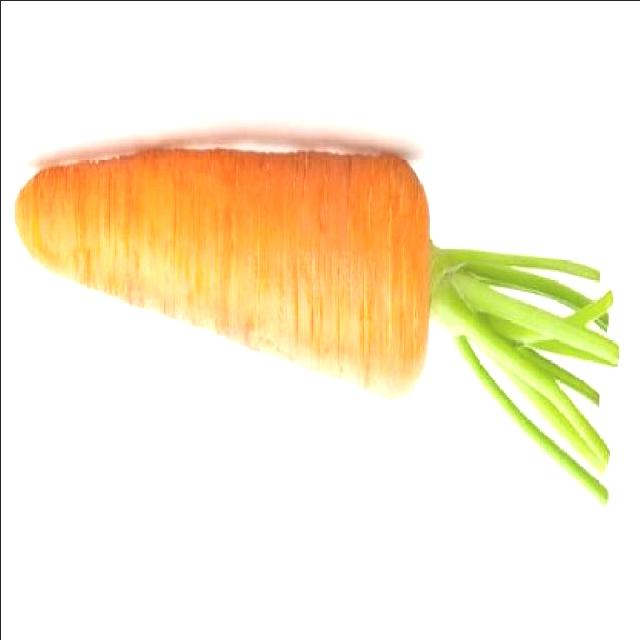carrot: (16, 72, 447, 455)
